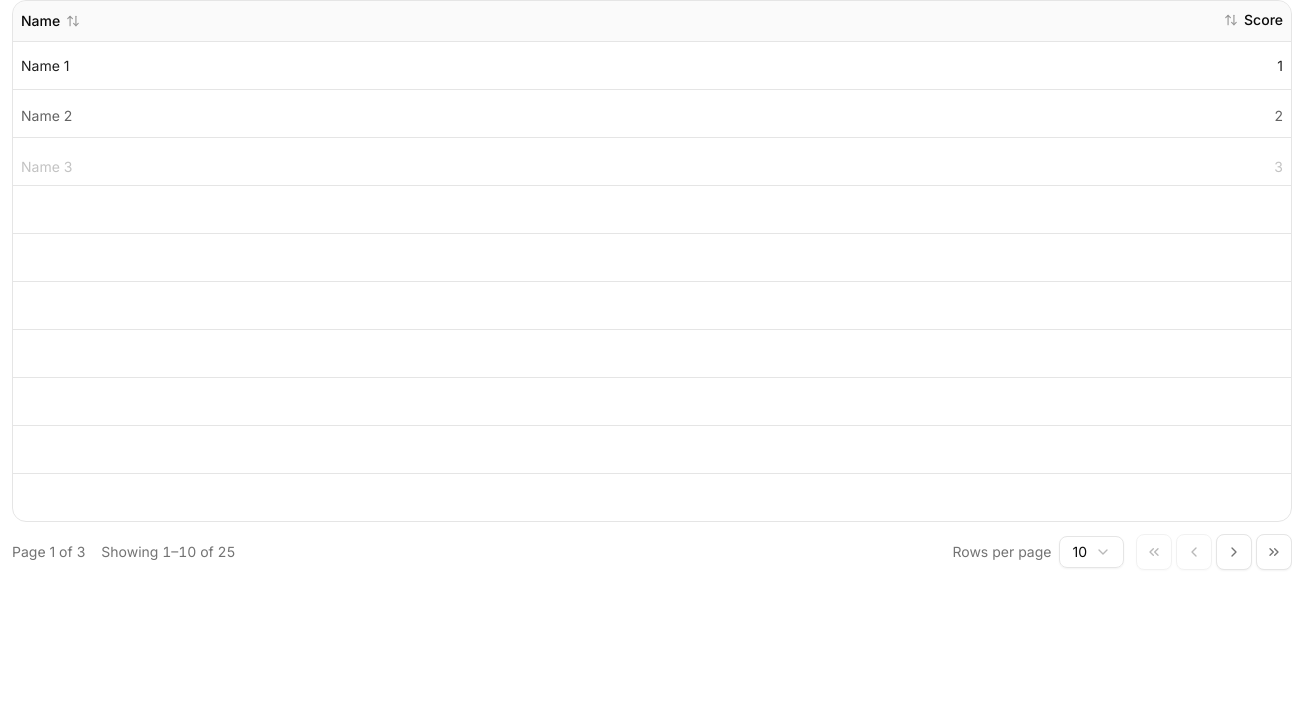
Test: <DataTable /> — pager integration (usePagination) › disables first/prev on the first page and next/last on the last page
Expected: the button named "First page" is disabled, [1136, 534, 1172, 570]
Expected: the button named "Previous page" is disabled, [1176, 534, 1212, 570]
Click the button named "Last page": (1274, 552) [1256, 534, 1292, 570]
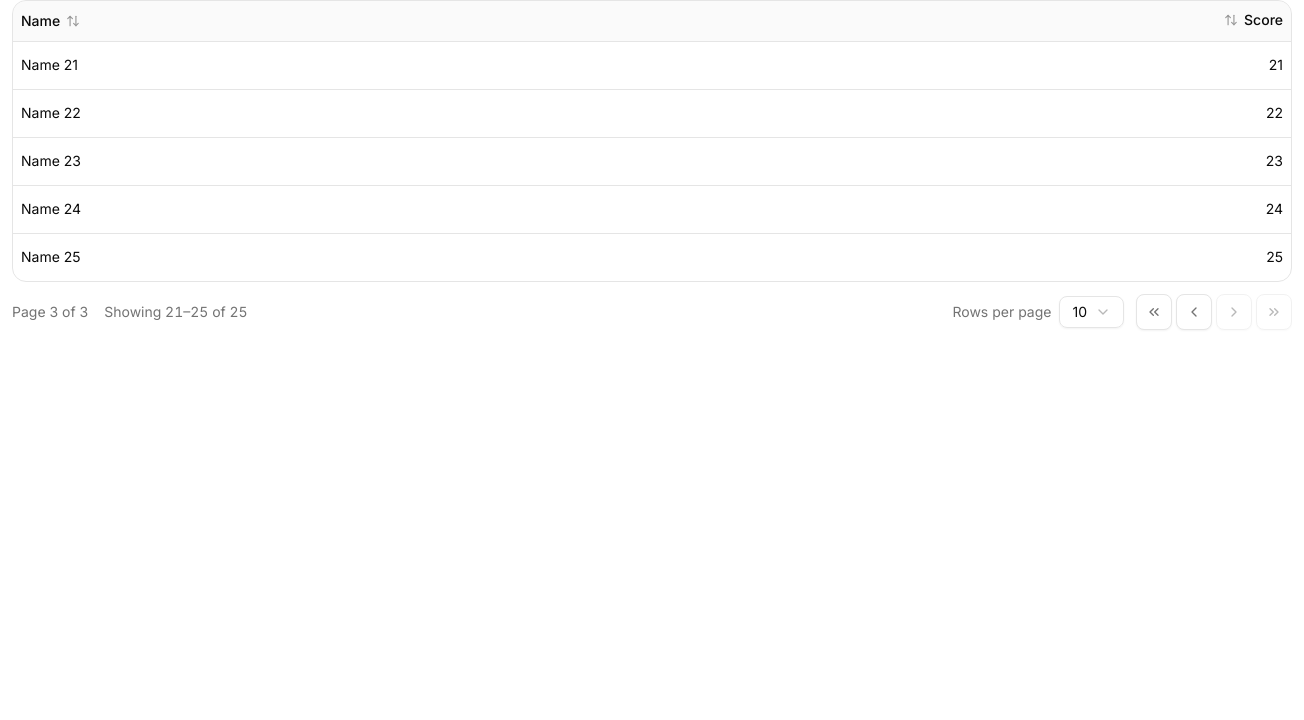
Expected: the button named "Next page" is disabled, [1216, 294, 1252, 330]
Result: the button named "Last page" is disabled at [1256, 294, 1292, 330]
